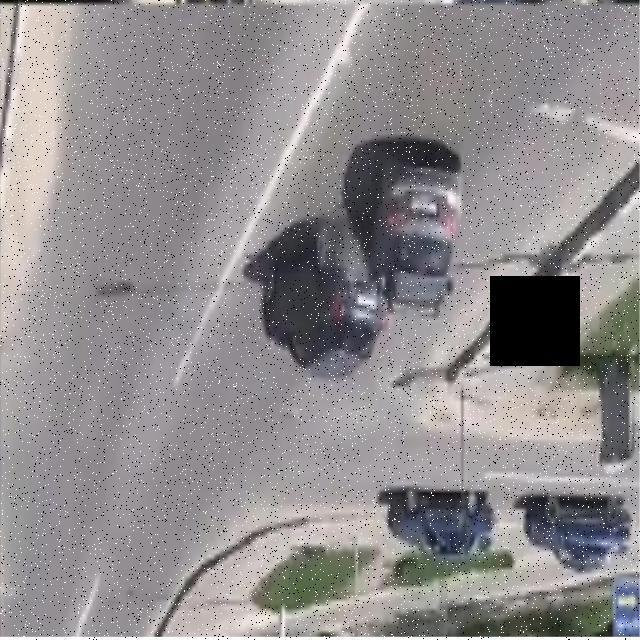moderate: (257, 142, 468, 386)
